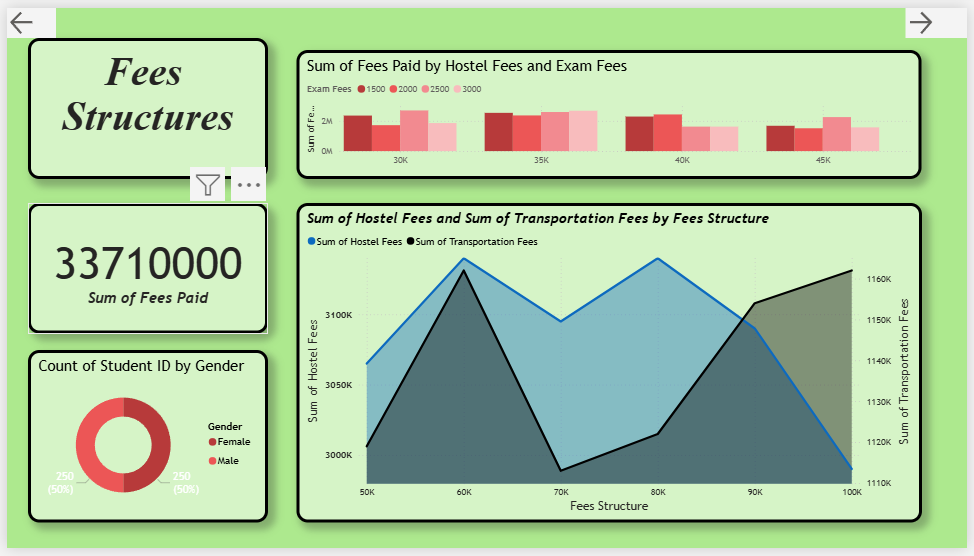

Layout of this report page (visuals, bound fields, positions):
{"tool":"powerbi","page":{"name":"FS","canvas":[1280,720],"ordinal":2},"visuals":[{"type":"textbox","box":[28,40,320,188],"z":0},{"type":"card","fields":{"Values":["Sum(Student Academic Performance.Fees Paid)"]},"box":[28,260,320,174],"z":1000},{"type":"donutChart","fields":{"Y":["CountNonNull(Fees.Student ID)"],"Category":["Student Academic Performance.Gender"]},"box":[28,456,320,230],"z":2000},{"type":"areaChart","fields":{"Y":["Sum(Fees.Hostel Fees)"],"Y2":["Sum(Fees.Transportation Fees)"],"Category":["Student Academic Performance.Fees Structure"]},"box":[386,260,834,426],"z":3000},{"type":"clusteredColumnChart","fields":{"Category":["Fees.Hostel Fees"],"Y":["Sum(Student Academic Performance.Fees Paid)"],"Series":["Fees.Exam Fees"]},"box":[386.5,55.7,833.5,171.8],"z":4000},{"type":"actionButton","box":[0,0,65.2,39.8],"z":5000},{"type":"actionButton","box":[1197.7,0,82.7,39.8],"z":6000}]}

Visuals, with their boxes in screenshot pixels (x1, y1, x2, y2), scaled from the page's 1280x720 canvas onto the 974x556 screenshot:
textbox: 21 31 265 176
card - Sum(Student Academic Performance.Fees Paid): 21 201 265 335
donutChart - CountNonNull(Fees.Student ID) x Student Academic Performance.Gender: 21 352 265 530
areaChart - Sum(Fees.Hostel Fees) x Sum(Fees.Transportation Fees): 294 201 928 530
clusteredColumnChart - Fees.Hostel Fees x Sum(Student Academic Performance.Fees Paid): 294 43 928 176
actionButton: 0 0 50 31
actionButton: 911 0 973 31
